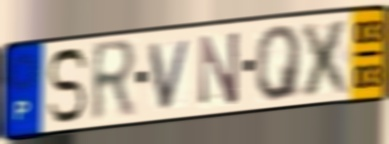N: (197, 28, 242, 108)
Q: (253, 22, 305, 104)
R: (90, 36, 141, 127)
S: (45, 46, 90, 126)
V: (147, 35, 195, 113)
X: (298, 15, 355, 99)
